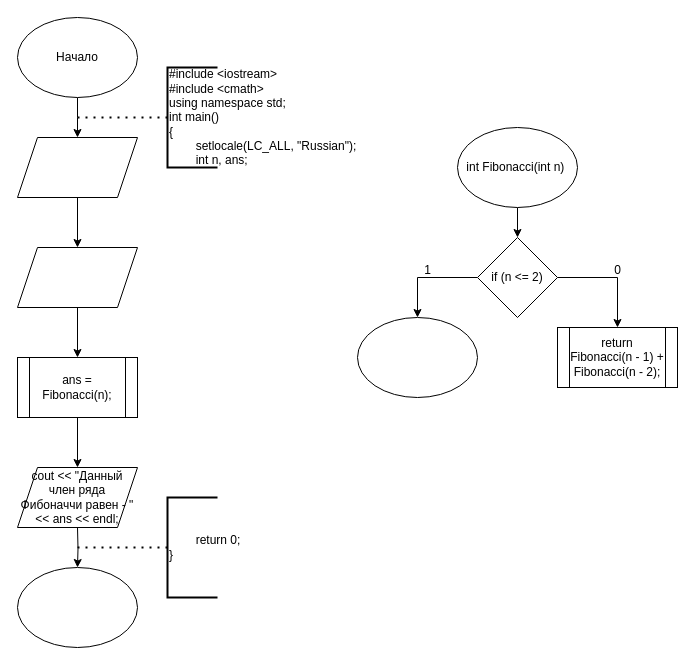
Some shapes in this 695 by 665 pixel diagram are drawn without their labels. Here are the shapes that lost their labels. From the top down, the centre of each, then its label:
(x=77, y=167): cout << "Введите номер числа в ряде Фибоначчи(1, 1, 2, ...): \n";
(x=77, y=277): cin >> n;
(x=417, y=357): return 1;
(x=77, y=607): Конец
